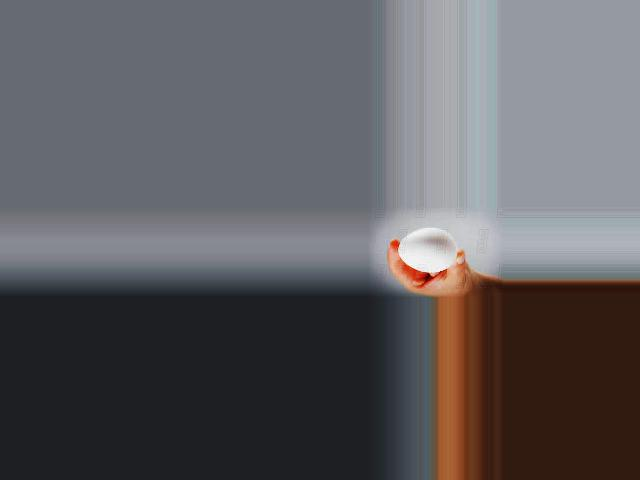egg: (398, 228, 456, 272)
